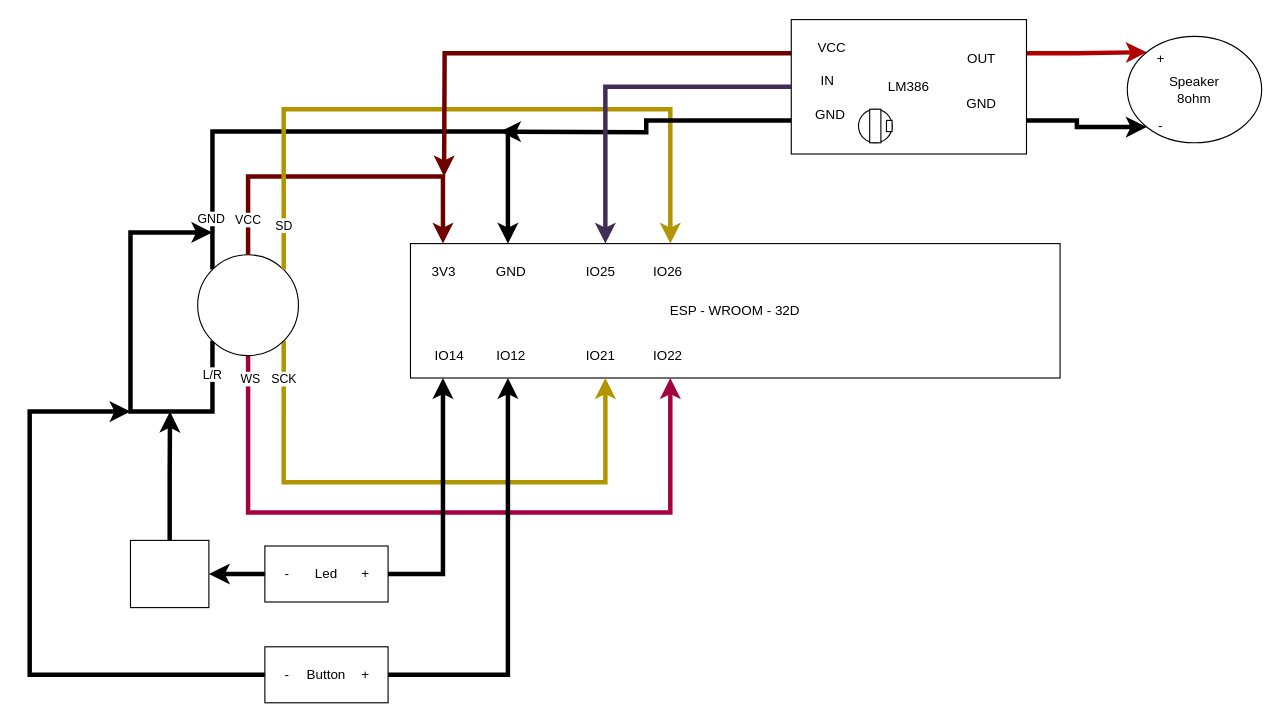
This 1281x722 diagram has some shape labels left out. Each missing label, with the centre of its shape:
"INMP441" goes at [247,305].
"Resistor 100ohm" goes at [169,573].
